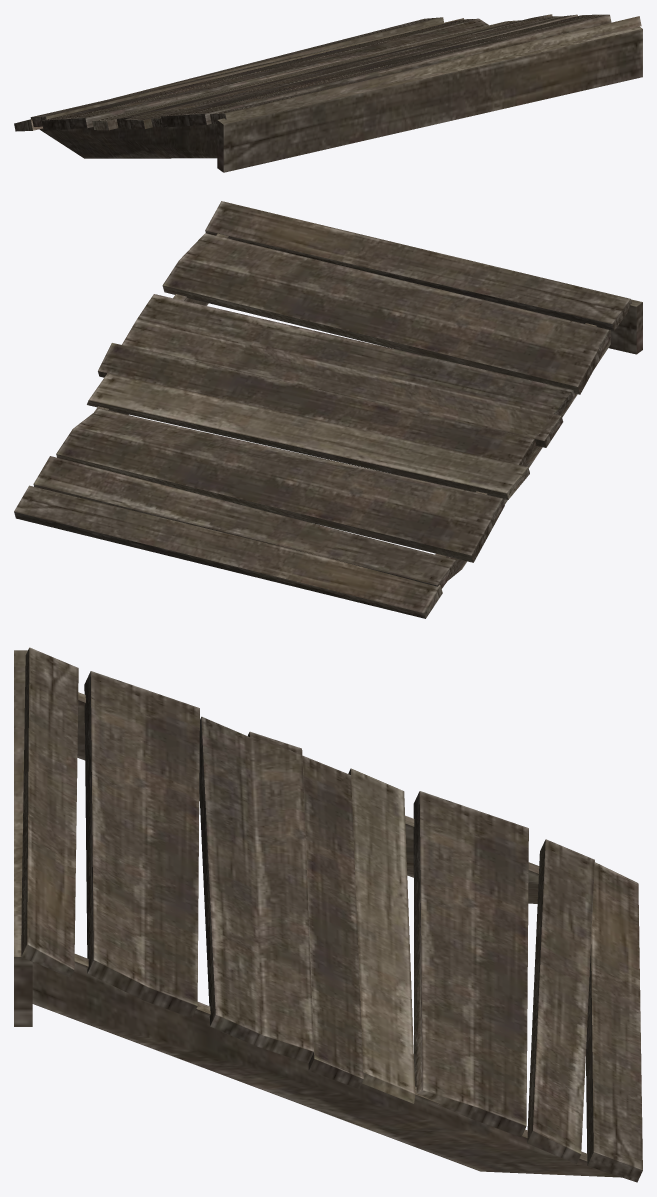
Rendered from eso_gu3_wooddocks1-transformed.glb.
The picture shows the model from 3 angles, top to bottom: view 1: azimuth 30°, elevation 25°; view 2: azimuth 150°, elevation 25°; view 3: azimuth 270°, elevation 25°; orthographic projection. The views are drawn at different scales.
Parts seen in each view (by area): view 1: default; view 2: default; view 3: default.
Part boxes in pixels (x1=…): default: x1=14, y1=14, x2=642, y2=172; default: x1=14, y1=201, x2=642, y2=618; default: x1=14, y1=647, x2=642, y2=1182.
Size of the model in its own units: 7.63 by 2.84 by 6.56.
Materials: 1 (1 with a texture image).
